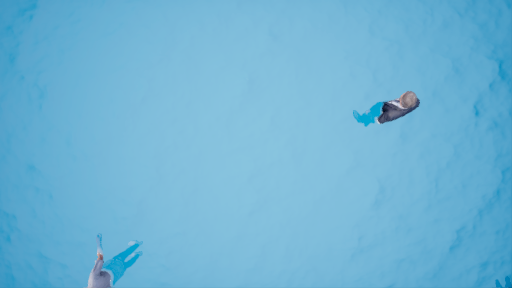person: (83, 231, 148, 288), (349, 82, 425, 130)
